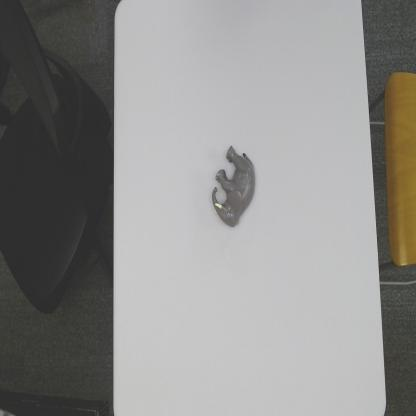Elephant: (211, 144, 256, 229)
